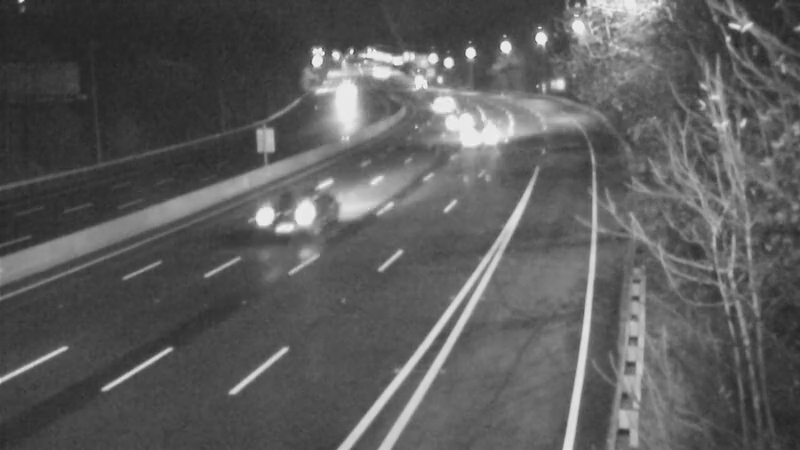vehicle: (258, 174, 338, 254), (393, 56, 443, 106), (418, 79, 468, 129), (430, 97, 480, 147), (449, 106, 499, 156), (316, 76, 366, 126)
